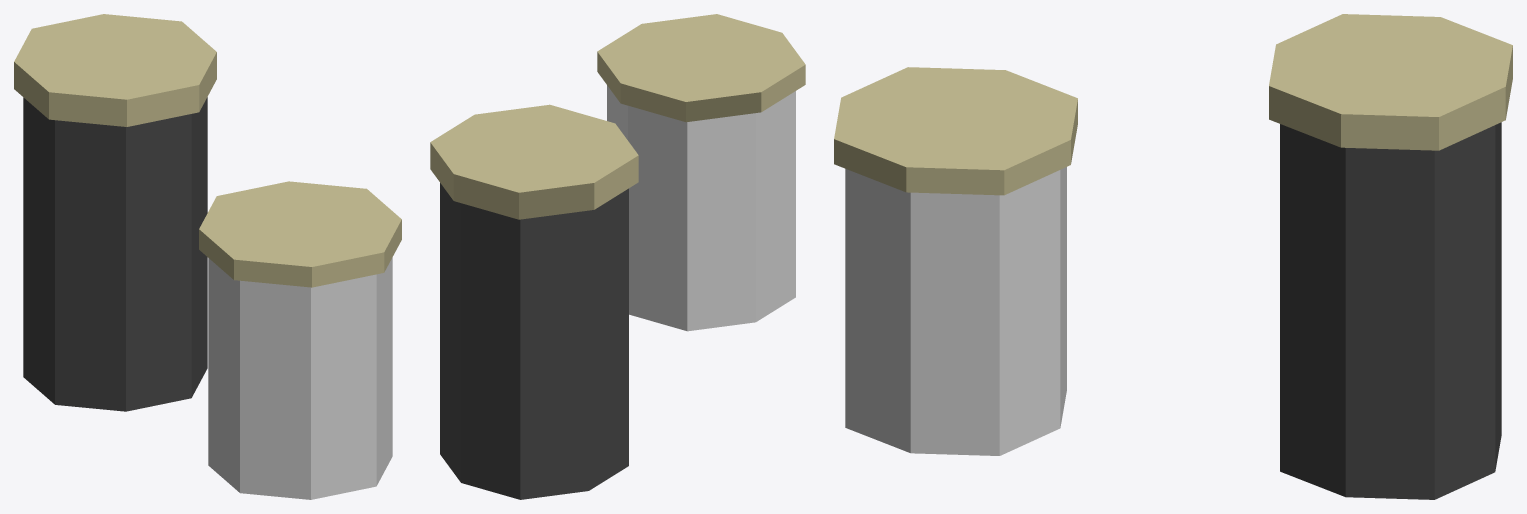
The model's file is Kitchen_2_Jars.fbx.
3 renders of one model, left to right at view 1: azimuth 30°, elevation 25°; view 2: azimuth 150°, elevation 25°; view 3: azimuth 270°, elevation 25°, orthographic. The views are drawn at different scales.
Visible parts, largest first — view 1: Kitchen_2_Jars; view 2: Kitchen_2_Jars; view 3: Kitchen_2_Jars.
Part boxes in pixels (box(x1,y1,x2,y2)): Kitchen_2_Jars: box(14, 14, 401, 499); Kitchen_2_Jars: box(430, 14, 805, 499); Kitchen_2_Jars: box(834, 14, 1512, 499).
Size of the model in its own units: 8.83 by 14.8 by 23.5.
